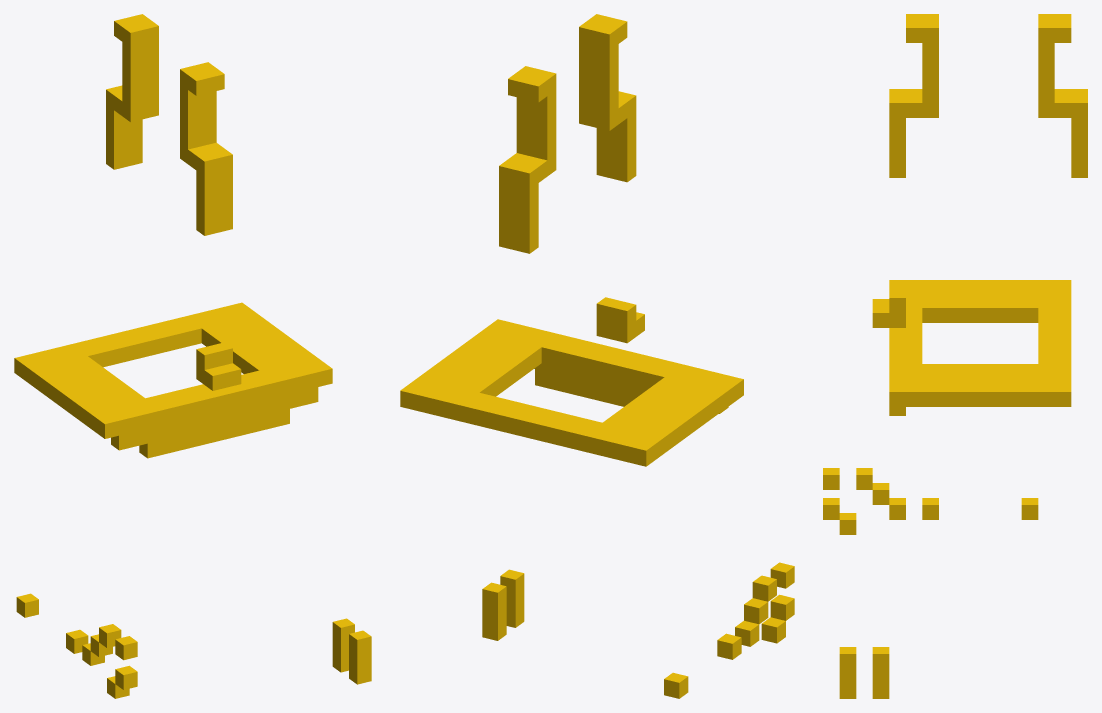
File: Osiris-4.obj
The picture shows the model from 3 angles, left to right: view 1: azimuth 30°, elevation 25°; view 2: azimuth 150°, elevation 25°; view 3: azimuth 270°, elevation 25°; orthographic projection. The views are drawn at different scales.
Bounding box in the file's own units: 1.8 × 4.1 × 1.6.
1 material, 1 textured.
